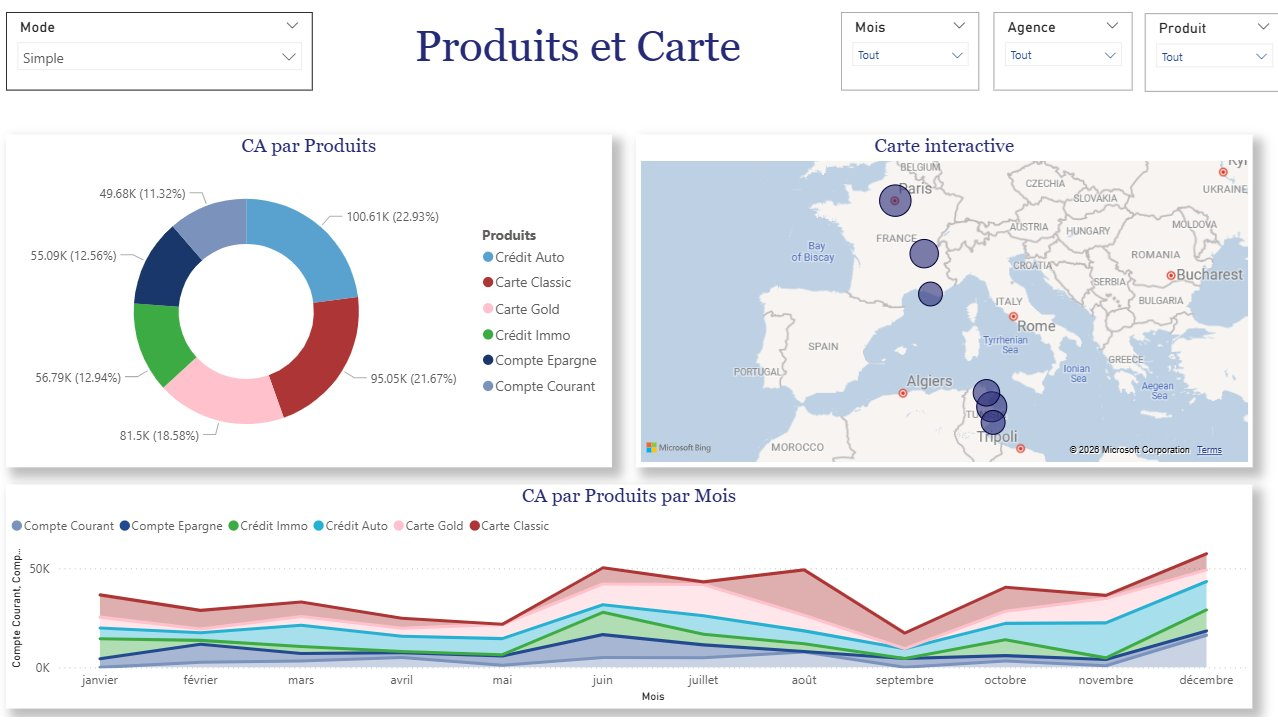

The page's visual inventory and layout, read from the dashboard file:
{"tool":"powerbi","page":{"name":"Produits et Carte","canvas":[1280,720],"ordinal":2},"visuals":[{"type":"donutChart","title":"CA par Produits","fields":{"Y":["_Measures.CA Dynamique"],"Category":["DWH DIM_PRODUIT.Produit"]},"box":[24.8,144.5,592.5,325.9],"z":0},{"type":"map","title":"Carte interactive","fields":{"Category":["DWH DIM_CLIENT.Ville"],"Size":["_Measures.CA Dynamique"]},"box":[640.3,144.5,603.4,325.9],"z":1000},{"type":"textbox","box":[335.7,28.3,494.8,71.7],"z":2000},{"type":"slicer","fields":{"Values":["DWH DIM_DATE.Mois"]},"box":[841.9,24.1,135.6,77.1],"z":3000},{"type":"slicer","fields":{"Values":["DWH DIM_AGENCE.Nom_Agence"]},"box":[990.7,24.7,136.2,77.1],"z":4000},{"type":"slicer","fields":{"Values":["DWH DIM_PRODUIT.Nom_Produit"]},"box":[1139,25.9,136.2,77.1],"z":5000},{"type":"slicer","fields":{"Values":["Mode Affichage.Mode"]},"box":[25,25,300,76.7],"z":6000},{"type":"stackedAreaChart","title":"CA par Produits par Mois","fields":{"Category":["DWH DIM_DATE.Date_Full.Variation.Hiérarchie de dates.Mois"],"Y":["_Measures.CA Produit 1","_Measures.CA Produit 2","_Measures.CA Produit 3","_Measures.CA Produit 4","_Measures.CA Produit 5","_Measures.CA Produit 6"]},"box":[24.8,486.7,1218.9,218.9],"z":7000}]}

Visuals, with their boxes in screenshot pixels (x1, y1, x2, y2), scaled from the page's 1280x720 canvas onto the 1278x720 screenshot:
"CA par Produits" donutChart: left=25, top=144, right=616, bottom=470
"Carte interactive" map: left=639, top=144, right=1242, bottom=470
textbox: left=335, top=28, right=829, bottom=100
slicer - DWH DIM_DATE.Mois: left=841, top=24, right=976, bottom=101
slicer - DWH DIM_AGENCE.Nom_Agence: left=989, top=25, right=1125, bottom=102
slicer - DWH DIM_PRODUIT.Nom_Produit: left=1137, top=26, right=1273, bottom=103
slicer - Mode Affichage.Mode: left=25, top=25, right=324, bottom=102
"CA par Produits par Mois" stackedAreaChart: left=25, top=487, right=1242, bottom=706
